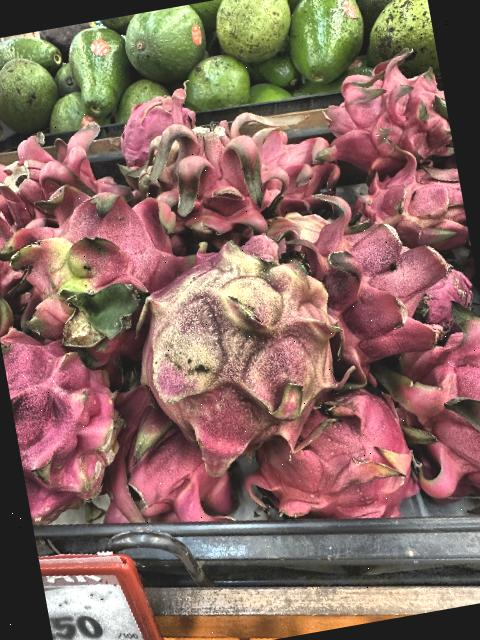buah-naga-belum-matang: (125, 224, 362, 471), (0, 174, 190, 358), (336, 132, 470, 262)
buah-naga-matang: (0, 312, 143, 552), (288, 185, 471, 368), (90, 362, 242, 554), (240, 377, 418, 540), (136, 92, 306, 250), (382, 311, 480, 536), (321, 42, 453, 170), (0, 116, 124, 222), (110, 87, 200, 161)
